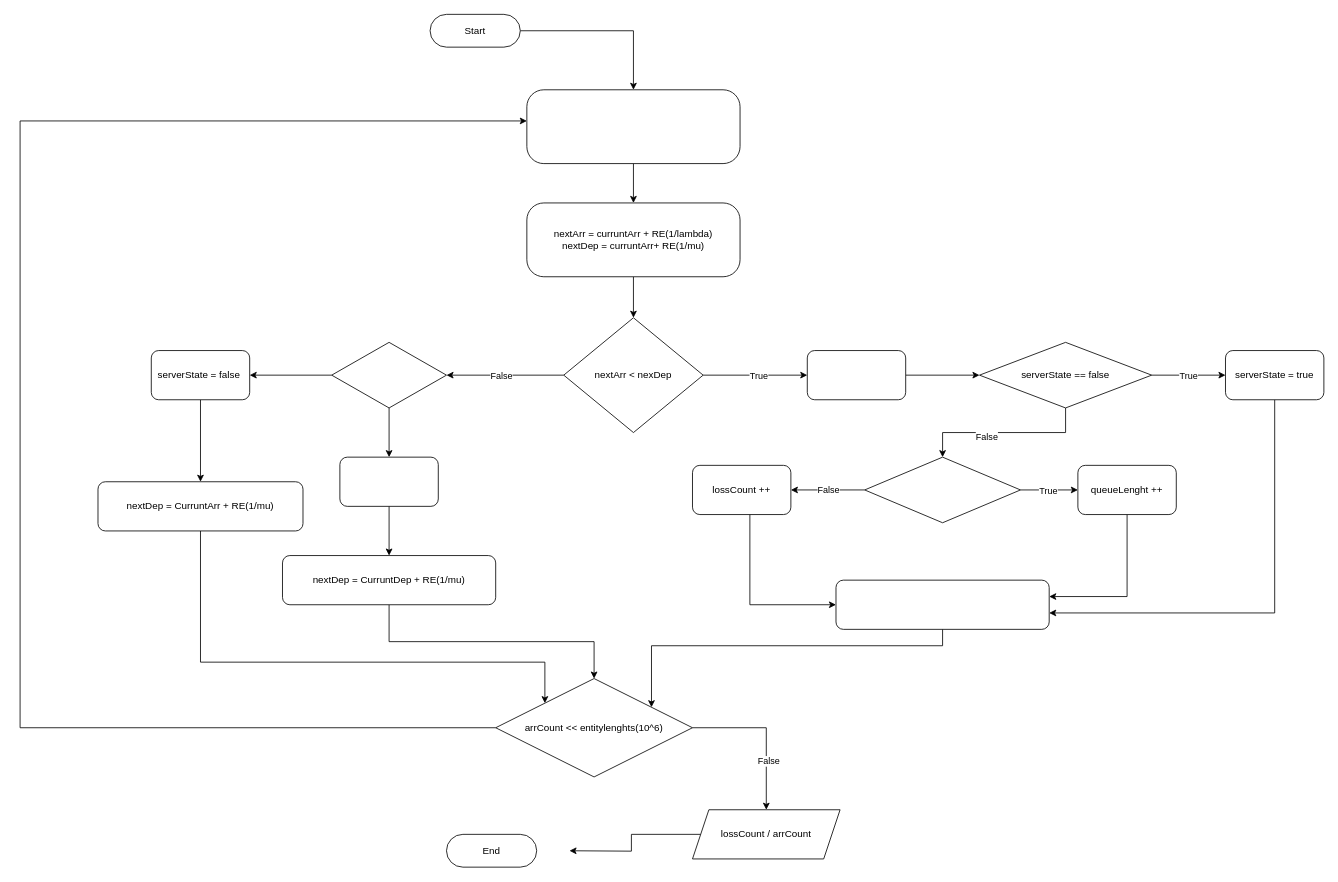
Some shapes in this 1338 by 882 pixel diagram are drawn without their labels. Each missing label, with the centre of its shape:
arrCount ++: point 856,375
arrCount = 0 lossCount = 0 queueLenght = 0 serverState = false: point 633,126
nextArr = curruntArr + RE(1/lambda): point 942,604
queueLenght - -: point 388,481
queueLenght == 0: point 388,375
queuLenght < 9: point 942,489
